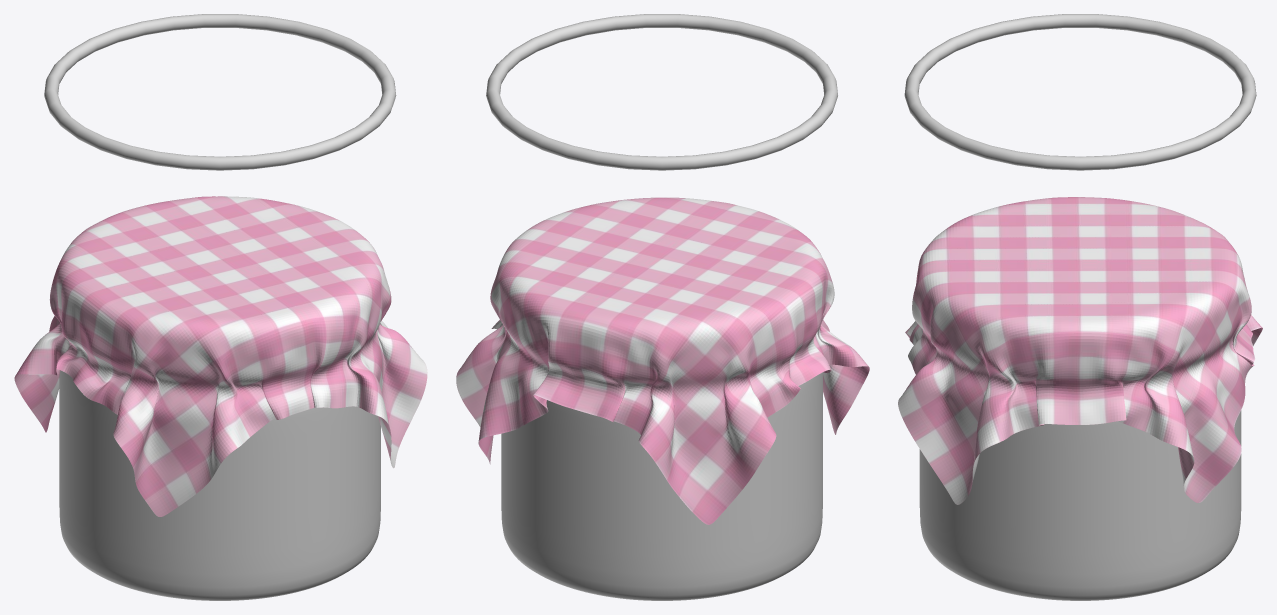
The model's file is jam-strawberry.fbx.
3 views of the same model, side by side, from view 1: azimuth 30°, elevation 25°; view 2: azimuth 150°, elevation 25°; view 3: azimuth 270°, elevation 25° (orthographic).
Visible parts, largest first — view 1: Plane, jar, Torus.011; view 2: Plane, jar, Torus.011; view 3: Plane, jar, Torus.011.
Part boxes in pixels (x1,y1,x2,y2): Plane: [14, 196, 427, 516]; jar: [59, 370, 380, 600]; Torus.011: [44, 14, 396, 170]; Plane: [456, 197, 869, 524]; jar: [501, 372, 822, 600]; Torus.011: [486, 14, 837, 170]; Plane: [898, 197, 1262, 504]; jar: [919, 410, 1241, 600]; Torus.011: [904, 14, 1256, 170].
Bounding box in the file's own units: 469 × 640 × 467.
